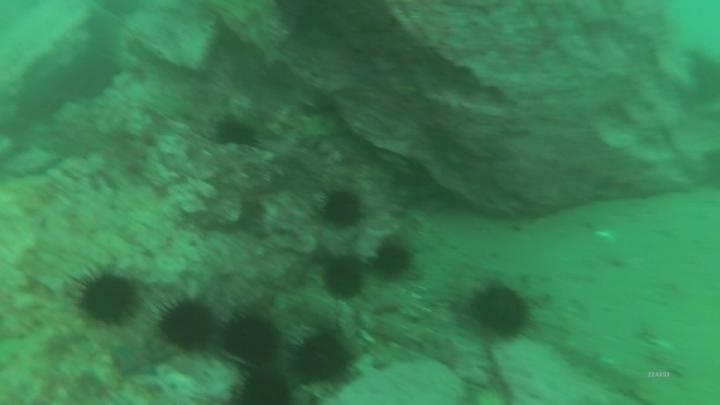echinus: (70, 264, 143, 330), (466, 280, 535, 343), (288, 326, 358, 388), (154, 293, 219, 355), (220, 311, 282, 366), (61, 49, 120, 103), (229, 367, 295, 405), (320, 254, 368, 302), (319, 186, 366, 231), (685, 48, 720, 108), (371, 239, 415, 282), (212, 114, 261, 150)
starfish: (107, 336, 171, 381)
